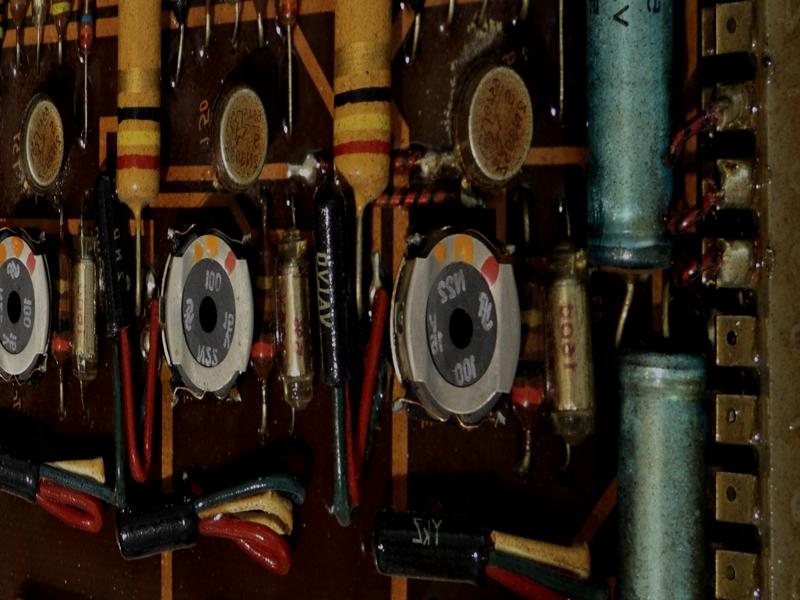Resistor: (324, 1, 396, 216), (111, 1, 169, 227), (507, 229, 553, 439), (241, 219, 283, 396), (44, 223, 77, 384)
